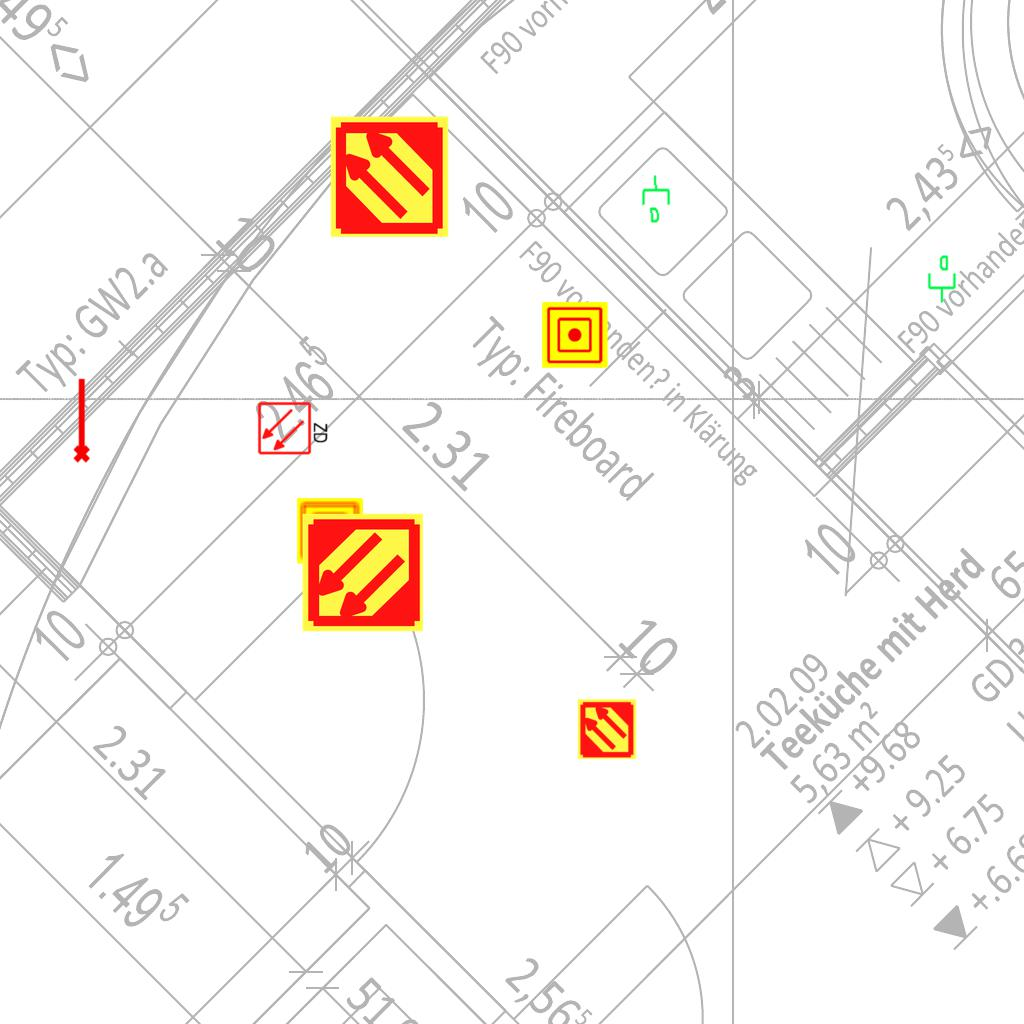ASR_Ansaugoeffnung: (69, 376, 92, 464)
ASR_Ansaugrauchmelder: (327, 114, 452, 239), (300, 510, 425, 635), (576, 698, 638, 760)
Datenanschluss_einfach: (639, 173, 675, 225), (924, 254, 958, 304)
NAM-Nichtautomatischer_Melder: (297, 498, 363, 564), (542, 302, 608, 368)
ZD_Melder_in_Zwischendecke_mit_Revisionsoeffnung_mind_40_x_40_cm: (257, 399, 331, 456)
